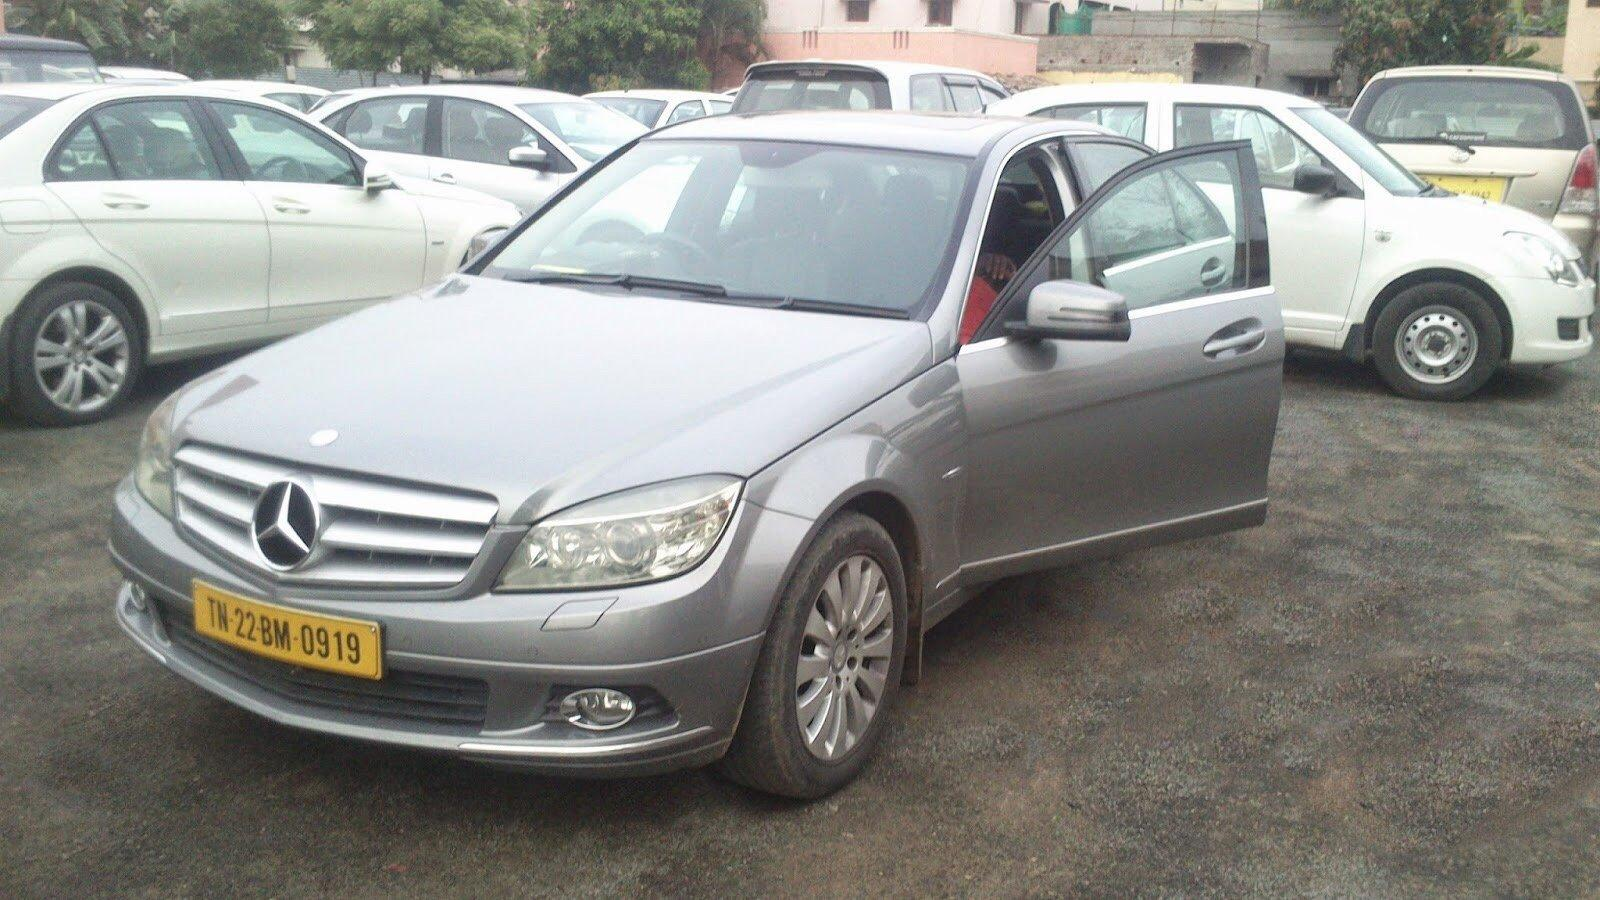Liscence Plate: (189, 576, 391, 687)
